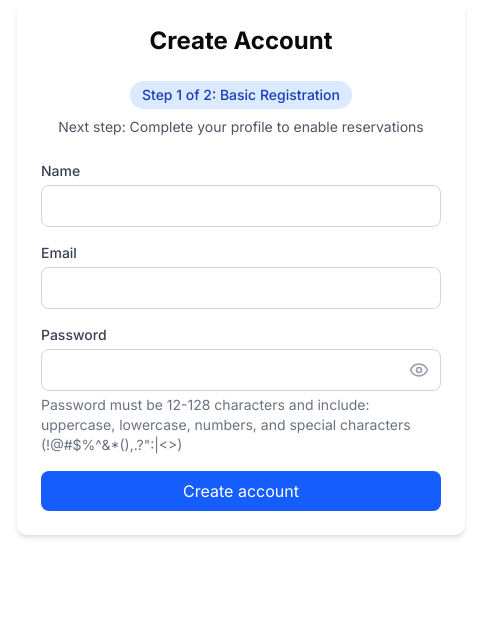
Scenario: RegisterForm › validates password requirements
Type "Test User" into the field labelled "Name" at point(241, 206), box [41,185,441,227]
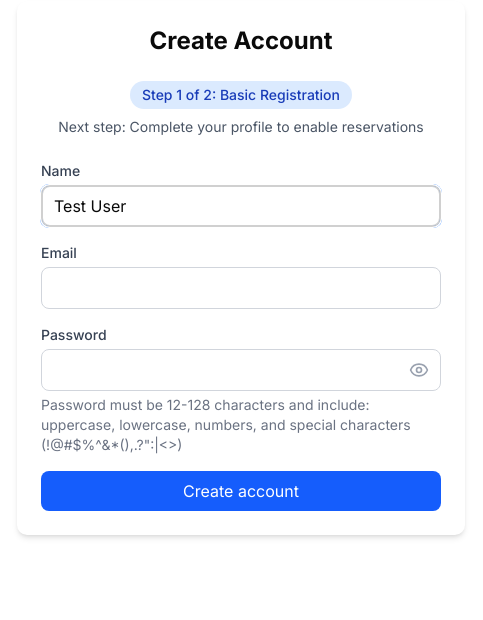
Type "test@example.com" into the field labelled "Email" at point(241, 288), box [41,267,441,309]
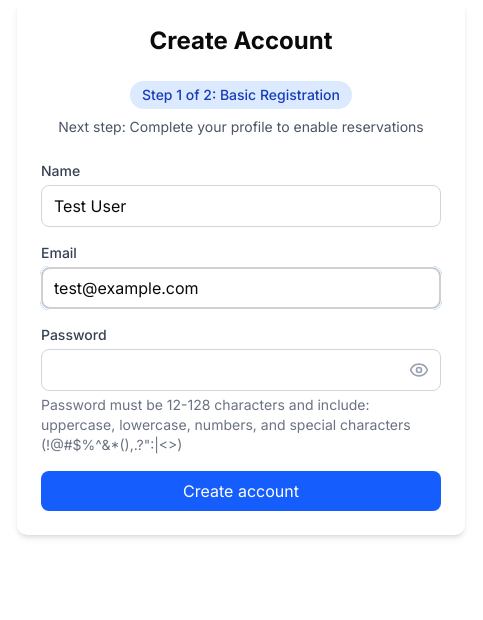
Type "weak" into the password field labelled "Password" at point(241, 370), box [41,349,441,391]
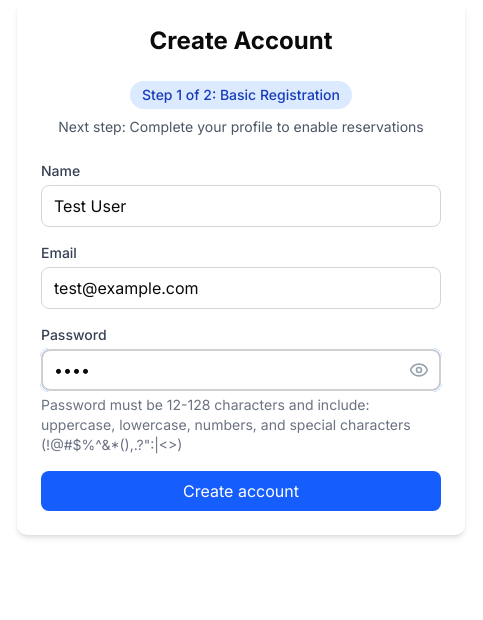
Click the button "Create account" at point(241, 491), box [41,471,441,511]
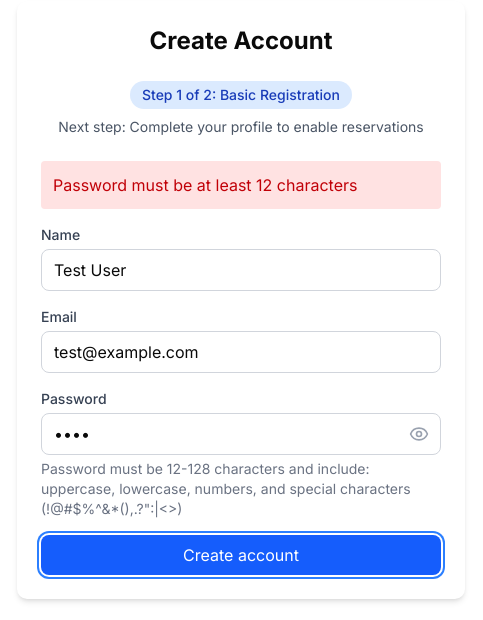
Check: the text "Password must be at least 12 characters" is shown, box [41,161,441,209]
